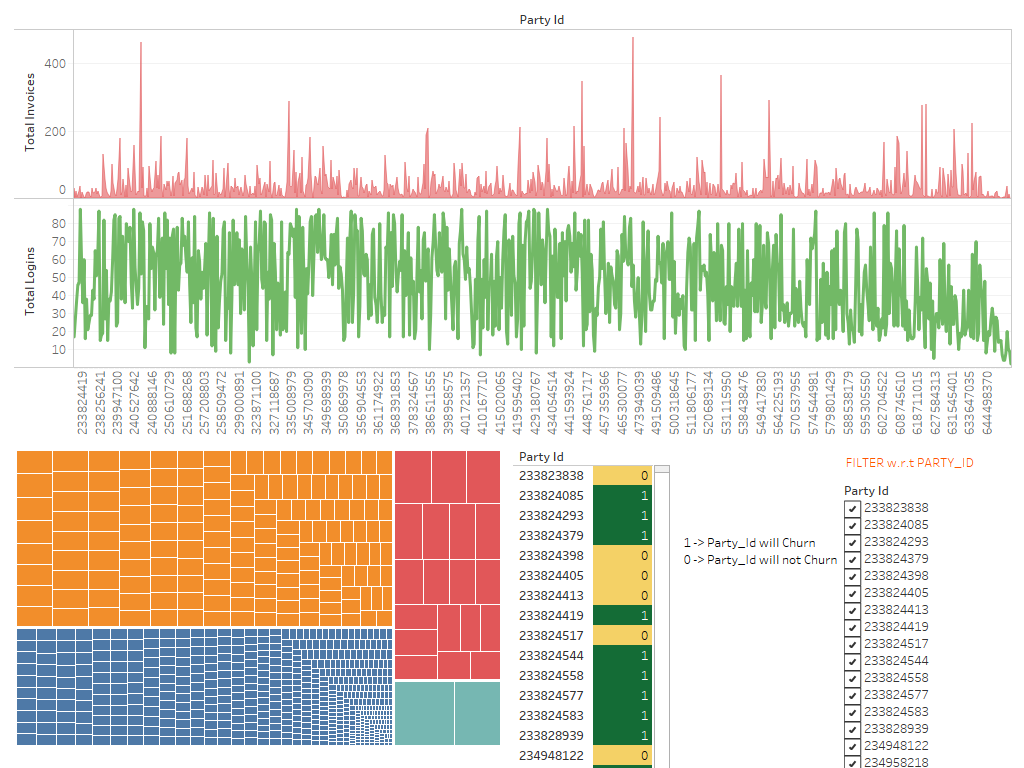

The page's visual inventory and layout, read from the dashboard file:
{"tool":"tableau","page":{"name":"Dashboard 1","canvas":[1024,768],"ordinal":0},"visuals":[{"type":"worksheet","box":[0,0,1024,768]},{"type":"worksheet","param":"vert","box":[8,8,1008,752]},{"type":"worksheet","param":"vert","box":[8,8,1008,752]},{"type":"worksheet","box":[8,8,1008,752]},{"type":"worksheet","title":"Sheet 1","mark":"Line","rows":["total_invoice","total_login"],"cols":["party_id"],"box":[14,9,998,428]},{"type":"worksheet","box":[843,447,134,30]},{"type":"worksheet","box":[681,534,160,34]}]}

Visuals, with their boxes in screenshot pixels (x1, y1, x2, y2), scaled from the page's 1024x768 canvas onto the 1024x768 screenshot:
worksheet: [left=0, top=0, right=1023, bottom=767]
worksheet: [left=8, top=8, right=1016, bottom=760]
worksheet: [left=8, top=8, right=1016, bottom=760]
worksheet: [left=8, top=8, right=1016, bottom=760]
"Sheet 1" worksheet (Line marks): [left=14, top=9, right=1012, bottom=437]
worksheet: [left=843, top=447, right=977, bottom=477]
worksheet: [left=681, top=534, right=841, bottom=568]
